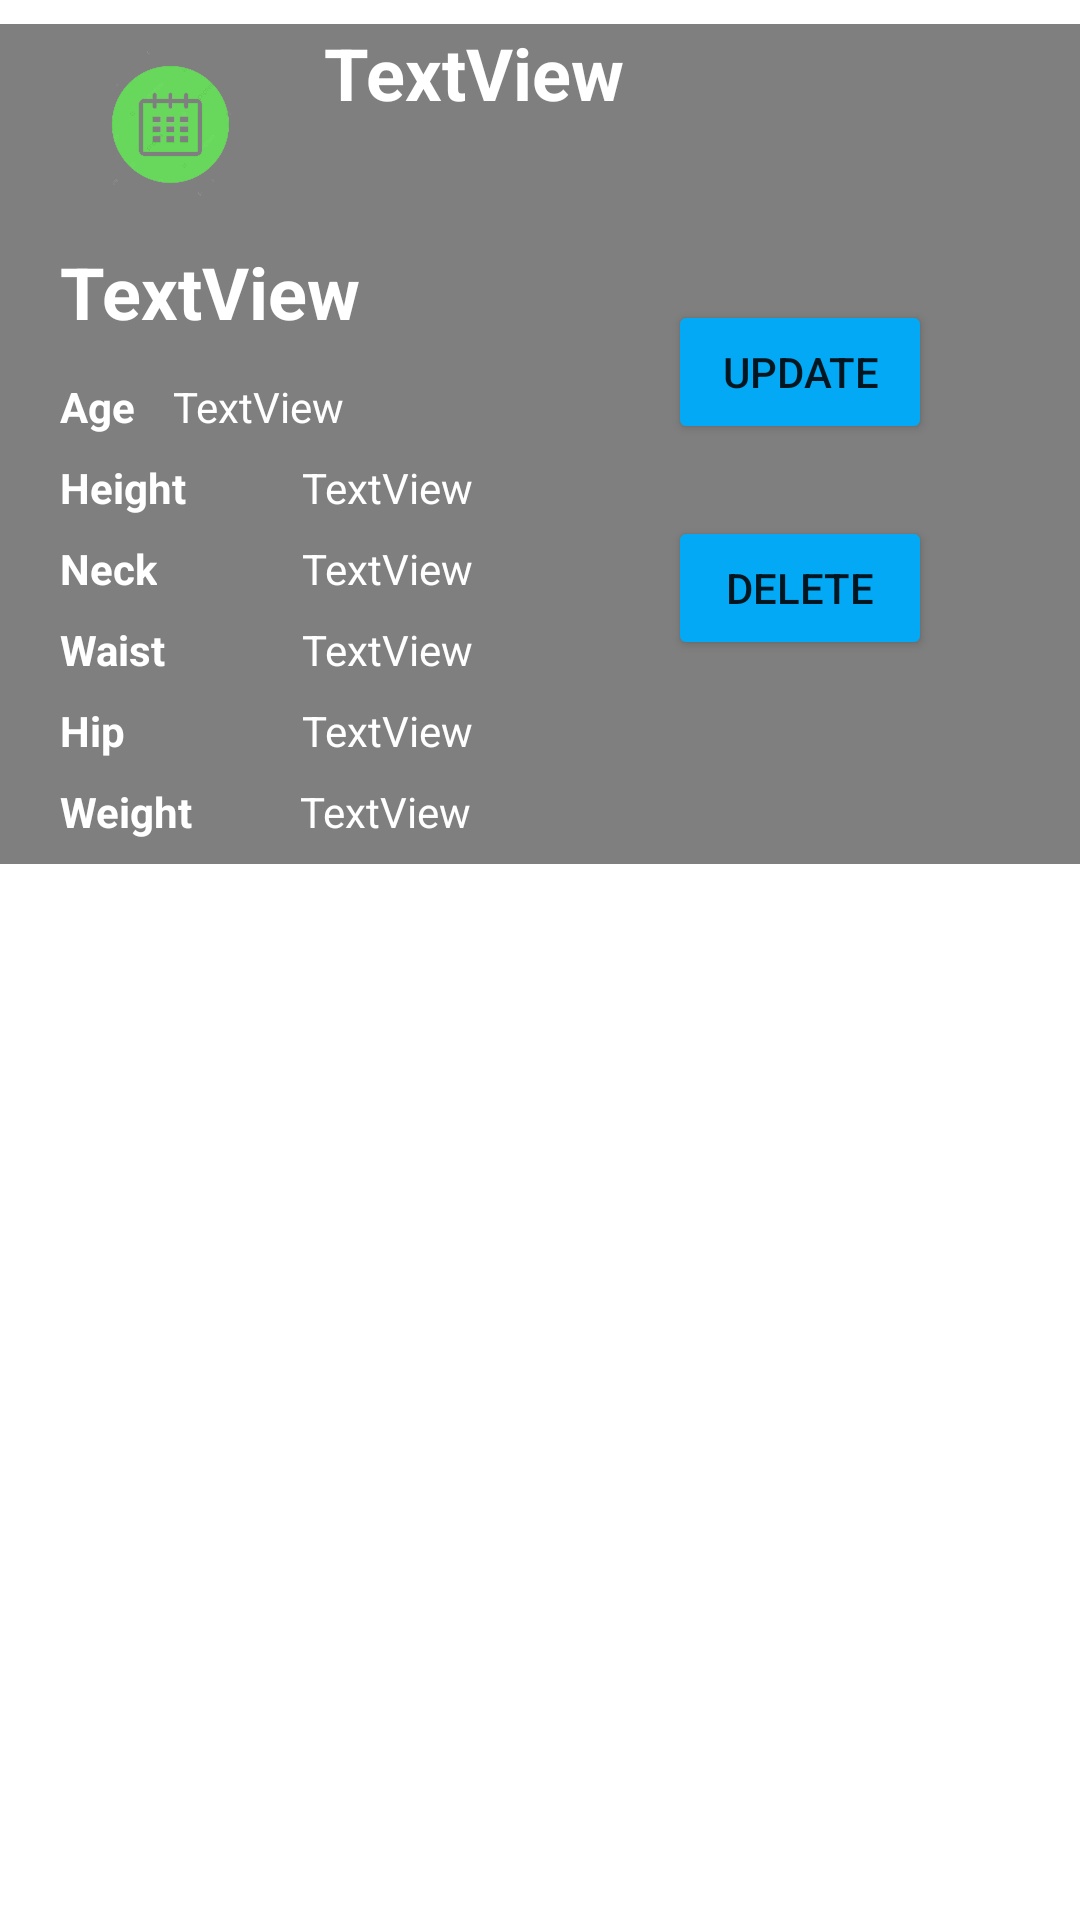

Point at icon controls on the screen. Image size 1080x1920, points as point (x, y).
date: point (170, 124)
